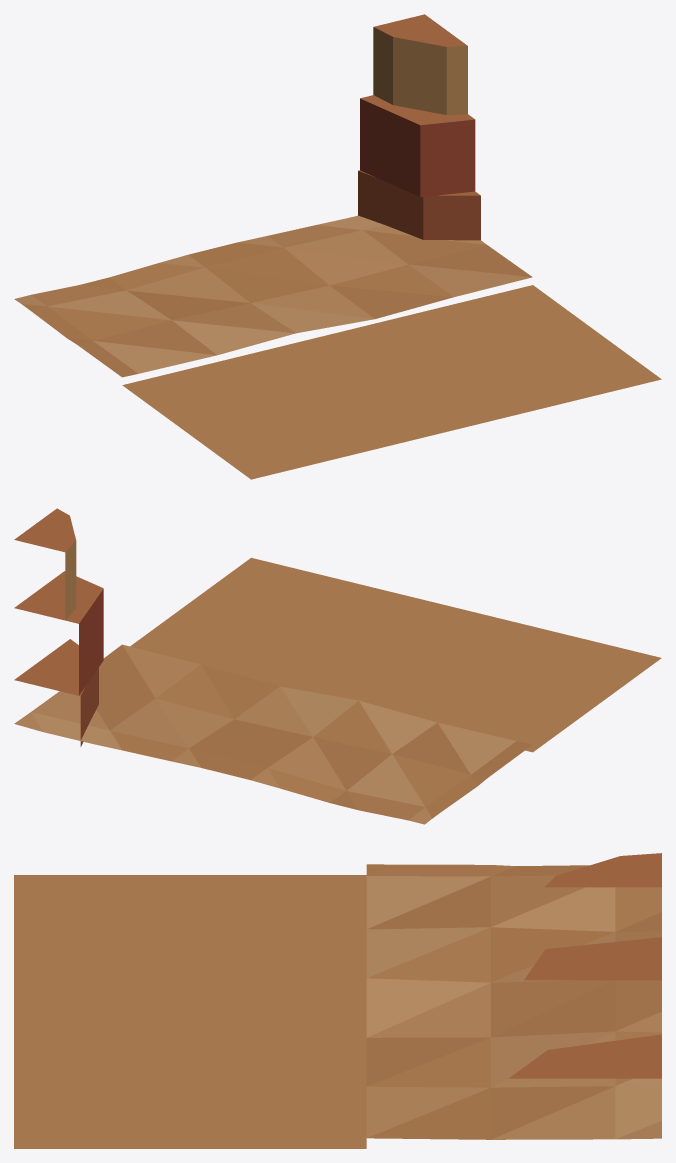
3 views of the same model, one above another, from view 1: azimuth 30°, elevation 25°; view 2: azimuth 150°, elevation 25°; view 3: azimuth 270°, elevation 25° (orthographic). The views are drawn at different scales.
Parts seen in each view (by area): view 1: baked; view 2: baked; view 3: baked.
Part boxes in pixels (x1,y1,x2,y2): baked: (14, 14, 661, 479); baked: (14, 508, 661, 824); baked: (14, 853, 661, 1148).
Size of the model in its own units: 62.5 by 27.84 by 62.5.
